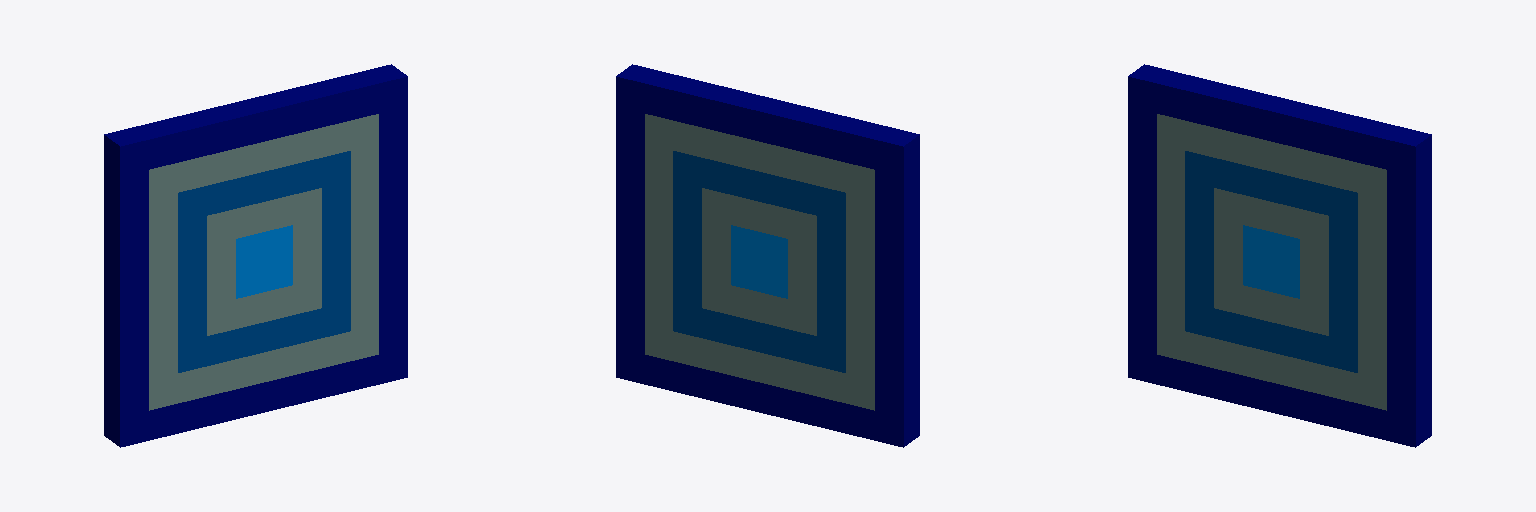
3 renders of one model, left to right at view 1: azimuth 30°, elevation 25°; view 2: azimuth 150°, elevation 25°; view 3: azimuth 330°, elevation 25°, orthographic.
Parts seen in each view (by area): view 1: object 1; view 2: object 1; view 3: object 1.
Boxes of the visible parts, x1=… form: object 1: x1=104, y1=64, x2=407, y2=447; object 1: x1=616, y1=64, x2=919, y2=447; object 1: x1=1128, y1=64, x2=1431, y2=447.
Size of the model in its own units: 1 by 1 by 0.1.
Materials: 1 (1 with a texture image).